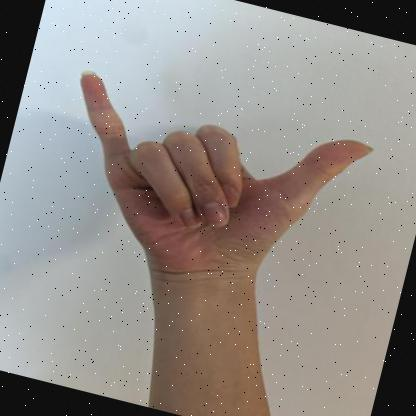Y: (80, 70, 373, 293)
